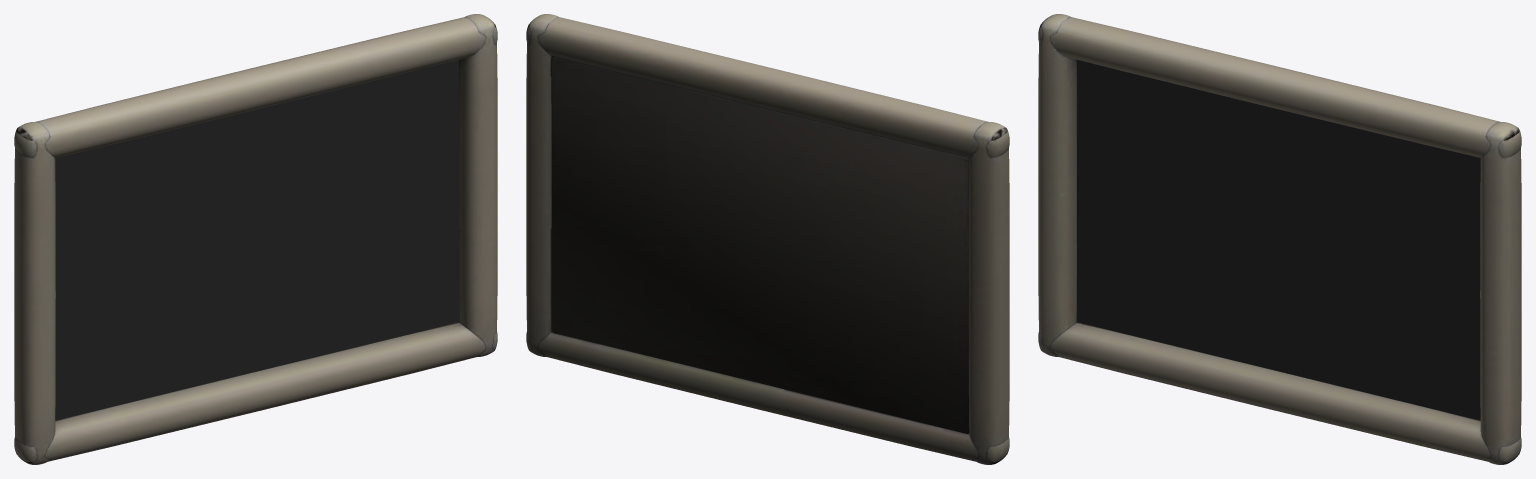
The model's file is frame.glb.
3 renders of one model, left to right at view 1: azimuth 30°, elevation 25°; view 2: azimuth 150°, elevation 25°; view 3: azimuth 330°, elevation 25°, orthographic.
Parts seen in each view (by area): view 1: Screen_mesh, Border_mesh; view 2: Border_mesh; view 3: Screen_mesh, Border_mesh.
Boxes of the visible parts, box(x1,y1,x2,y2) form: Screen_mesh: box(55, 59, 458, 420); Border_mesh: box(14, 14, 497, 464); Border_mesh: box(526, 14, 1009, 464); Screen_mesh: box(1077, 59, 1480, 420); Border_mesh: box(1038, 14, 1521, 464).
Size of the model in its own units: 1.86 by 1.26 by 0.1389.
Materials: 2 (1 with a texture image).
